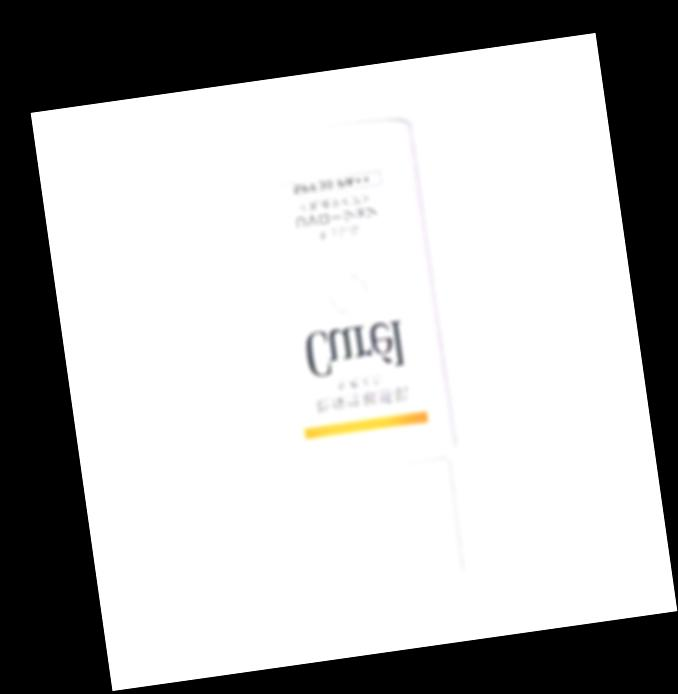cosmetic: (237, 119, 475, 599)
